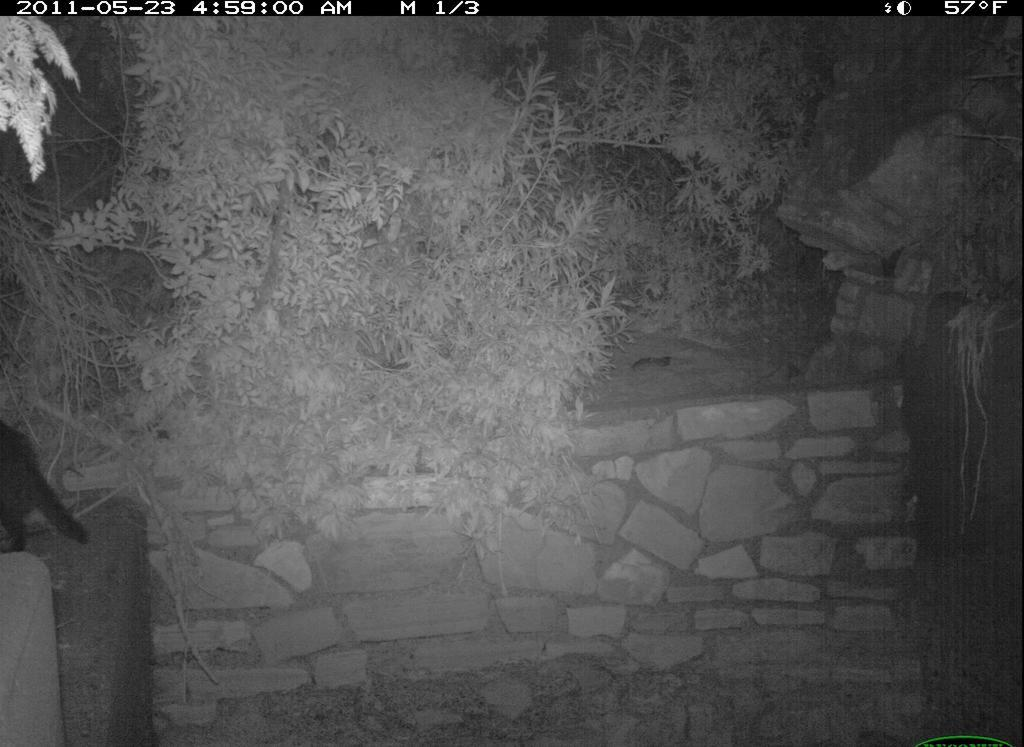cat: (1, 418, 97, 558)
